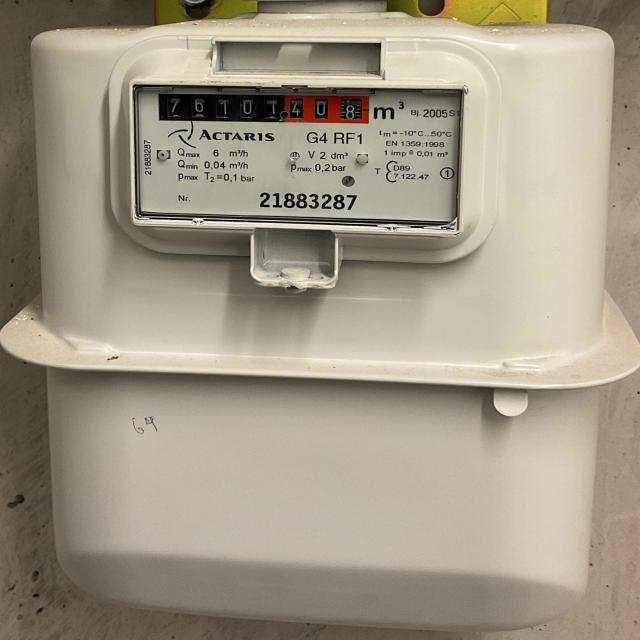gaz_meter: (136, 83, 464, 235)
indication: (159, 89, 370, 125)
